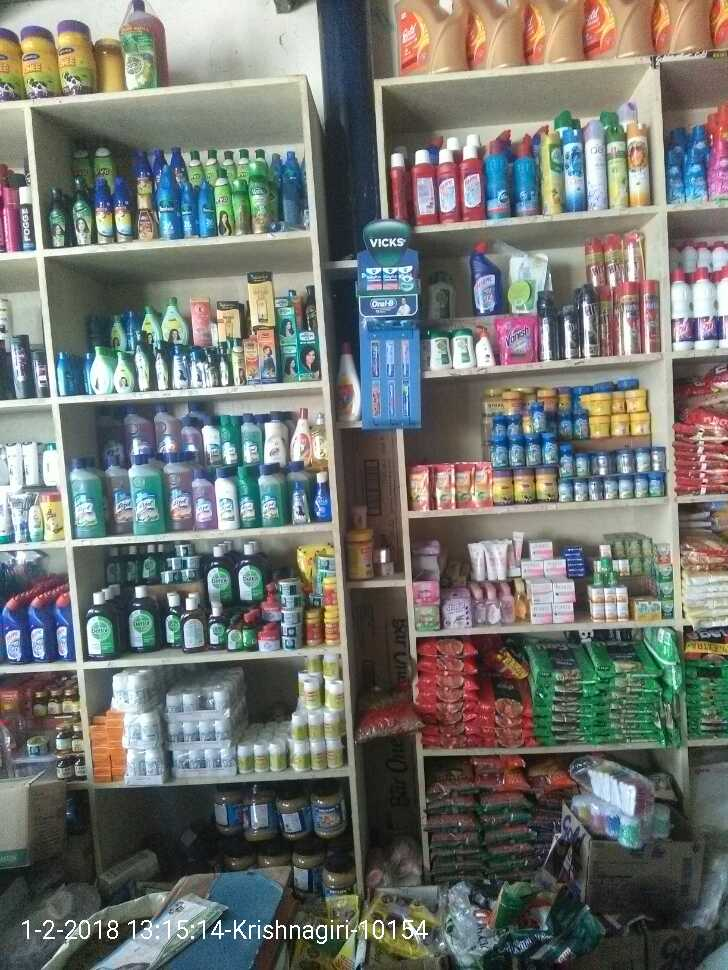vicks: (356, 258, 422, 296)
